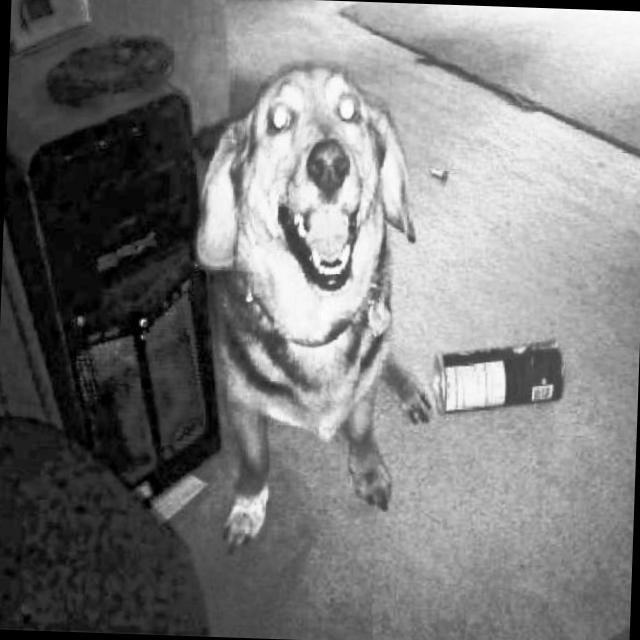Dog: (178, 54, 452, 558)
